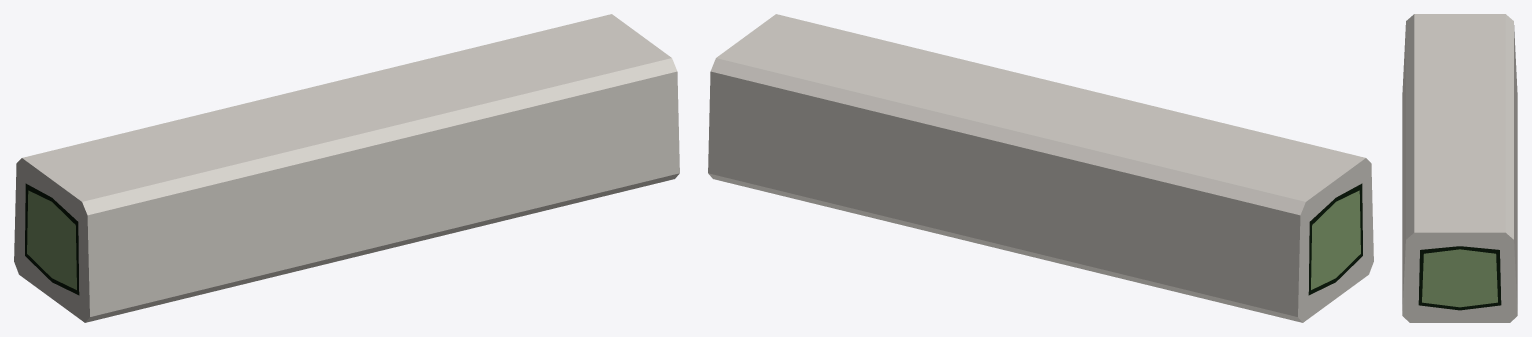
File: uramakiCocumberRoll.fbx
3 renders of one model, left to right at view 1: azimuth 30°, elevation 25°; view 2: azimuth 150°, elevation 25°; view 3: azimuth 270°, elevation 25°, orthographic. The views are drawn at different scales.
Visible parts, largest first — view 1: uramakiCocumberRoll; view 2: uramakiCocumberRoll; view 3: uramakiCocumberRoll.
Boxes of the visible parts, left/top/right/bottom form: uramakiCocumberRoll: left=14, top=14, right=679, bottom=322; uramakiCocumberRoll: left=708, top=14, right=1373, bottom=322; uramakiCocumberRoll: left=1402, top=14, right=1517, bottom=322.
Size of the model in its own units: 28.82 by 5.55 by 6.43.
Materials: 1 (1 with a texture image).
